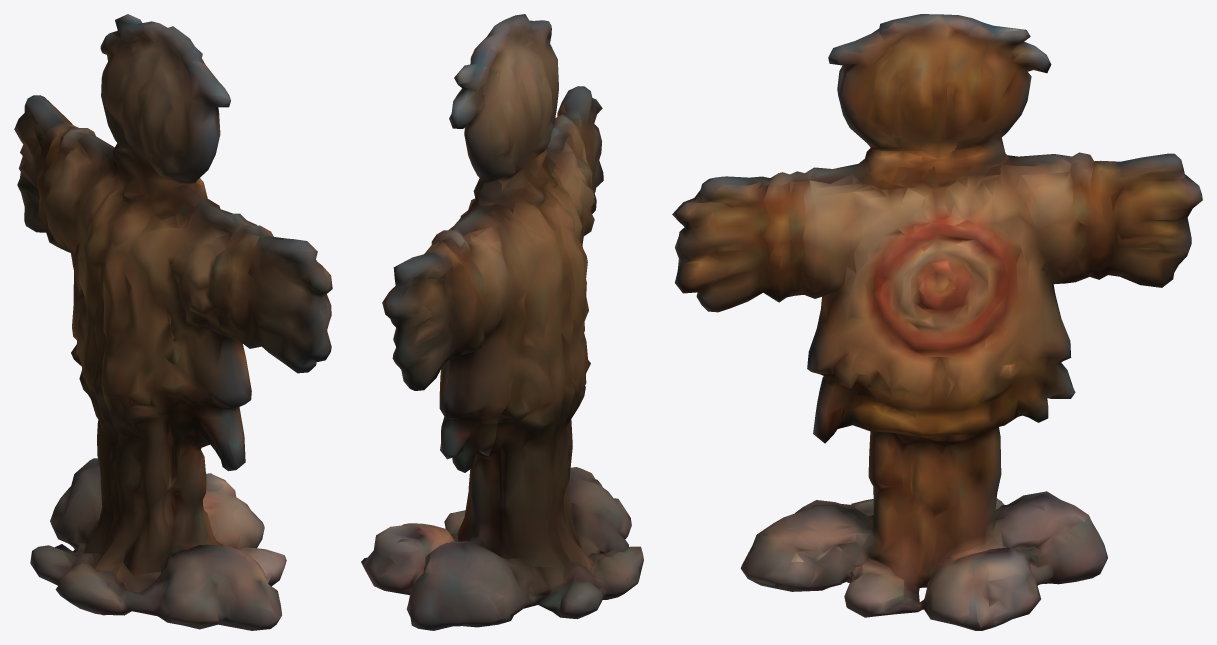
The model's file is training_dummy.glb.
3 renders of one model, left to right at view 1: azimuth 30°, elevation 25°; view 2: azimuth 150°, elevation 25°; view 3: azimuth 270°, elevation 25°, orthographic. The views are drawn at different scales.
Visible parts, largest first — view 1: model; view 2: model; view 3: model.
Part boxes in pixels (x1,y1,x2,y2): model: (14, 14, 332, 630); model: (361, 14, 643, 630); model: (672, 14, 1202, 630).
Size of the model in its own units: 0.695 by 1.6 by 1.34.
1 material, 1 textured.
